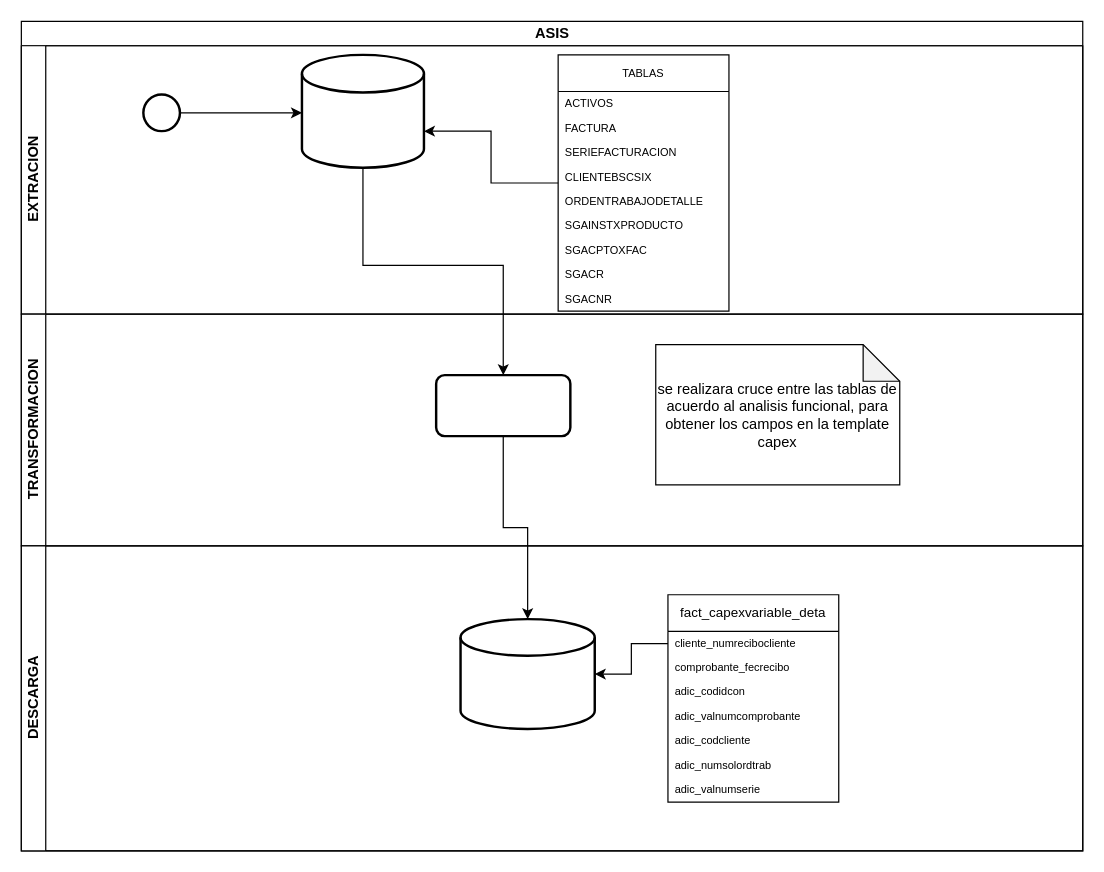
This 1104x872 diagram has some shape labels left out. The centre of each missing label's shape, as x and y in pixels:
"OBTENER CAMPOS" goes at point 502,405.
"PRD_CFISCAL_BDV" goes at point 527,673.
"PRD_CFISCAL_CDV" goes at point 362,110.
